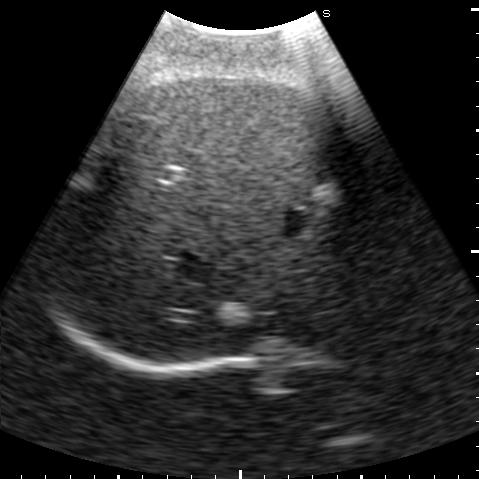S5: (125, 79, 353, 191)
S7: (43, 151, 164, 308)
S8: (108, 168, 383, 362)
Tumor: (216, 299, 248, 328), (309, 183, 341, 206)
